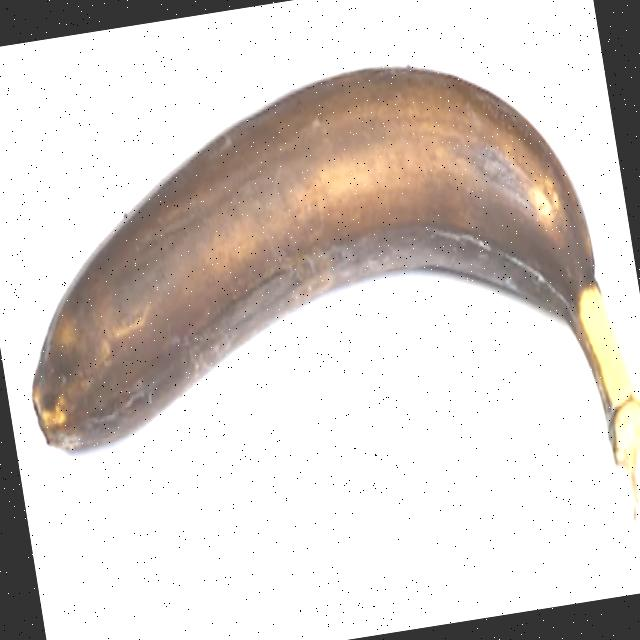Rotten: (0, 27, 640, 637)
